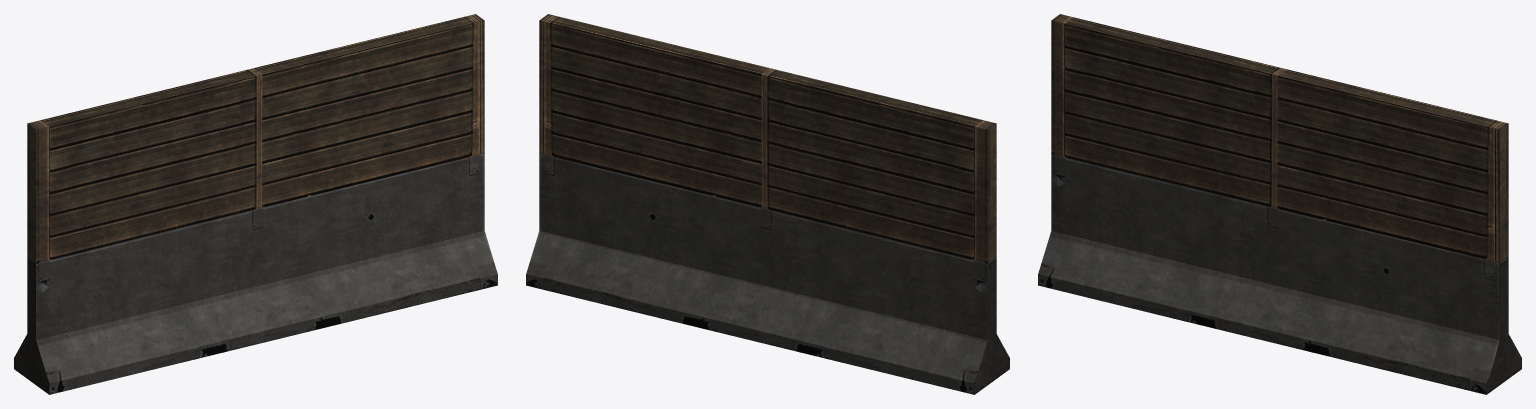
Rendered from barricade_b_2.obj.
3 views of the same model, side by side, from view 1: azimuth 30°, elevation 25°; view 2: azimuth 150°, elevation 25°; view 3: azimuth 330°, elevation 25° (orthographic).
Parts seen in each view (by area): view 1: barricade_b_2; view 2: barricade_b_2; view 3: barricade_b_2.
Boxes of the visible parts, x1,y1,x2,y2 form: barricade_b_2: (14,14,497,394); barricade_b_2: (526,14,1009,394); barricade_b_2: (1038,14,1521,394).
Bounding box in the file's own units: 2.94 × 1.6 × 0.4.
